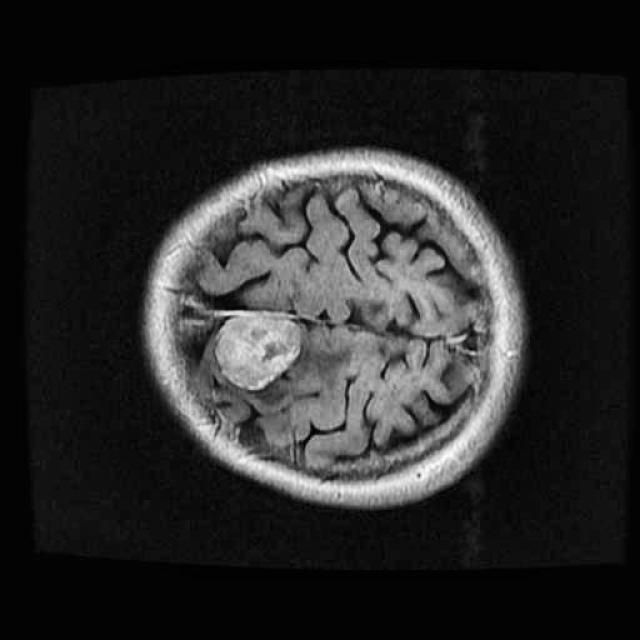Tumor: (206, 299, 310, 404)
